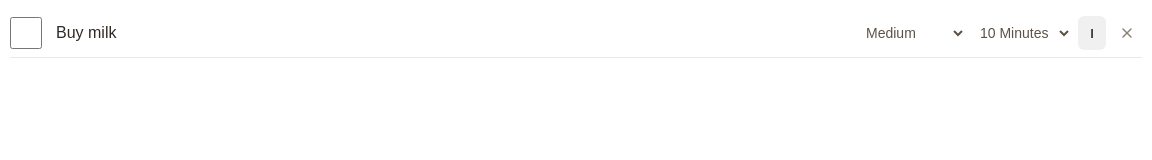
clicking outside (blur) saves the name
Click the button with aria-label "edit task name".
click(86, 32)  # box x1=56 y1=24 x2=116 y2=41
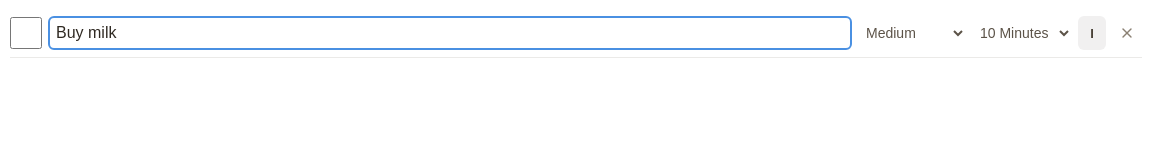
Replace the text in the field named "Task name" with "Buy milk today" at (450, 33), box x1=56 y1=23 x2=844 y2=43
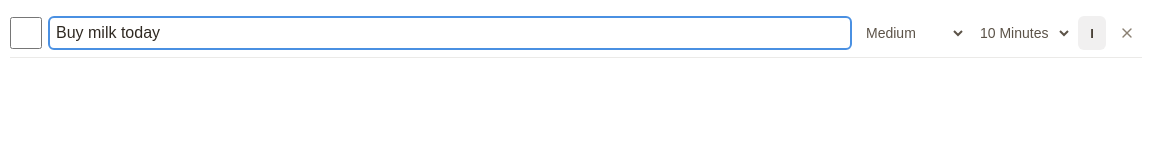
Leave the field named "Task name", box x1=56 y1=23 x2=844 y2=43
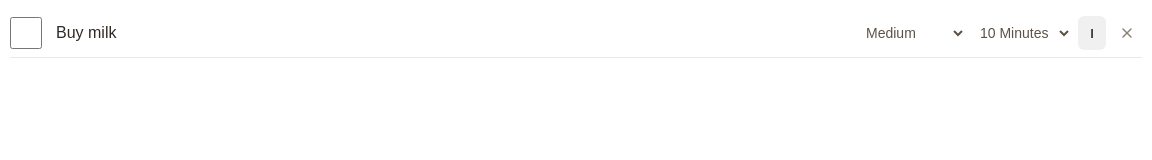
Check: the field is gone
